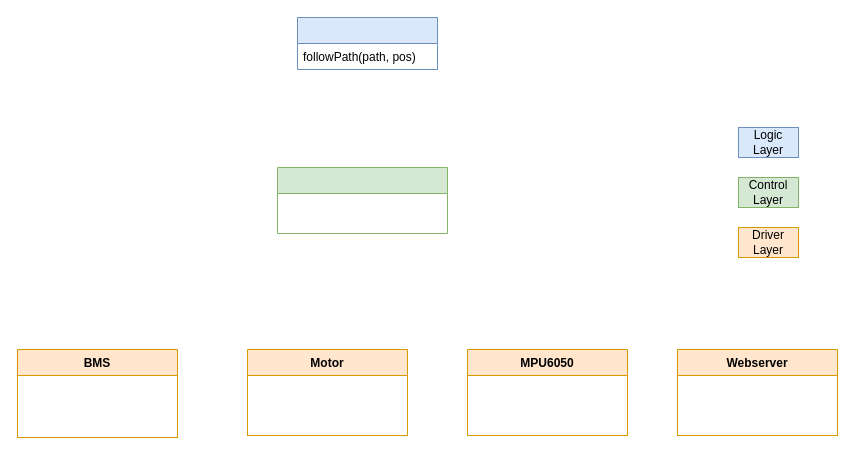
Some shapes in this 855 by 455 pixel diagram are drawn without their labels. The box of each missing label's shape, as (x1, y1, x2, y2) in pixels:
RC-Controller: (276, 166, 448, 234)
Steering: (296, 16, 438, 70)
